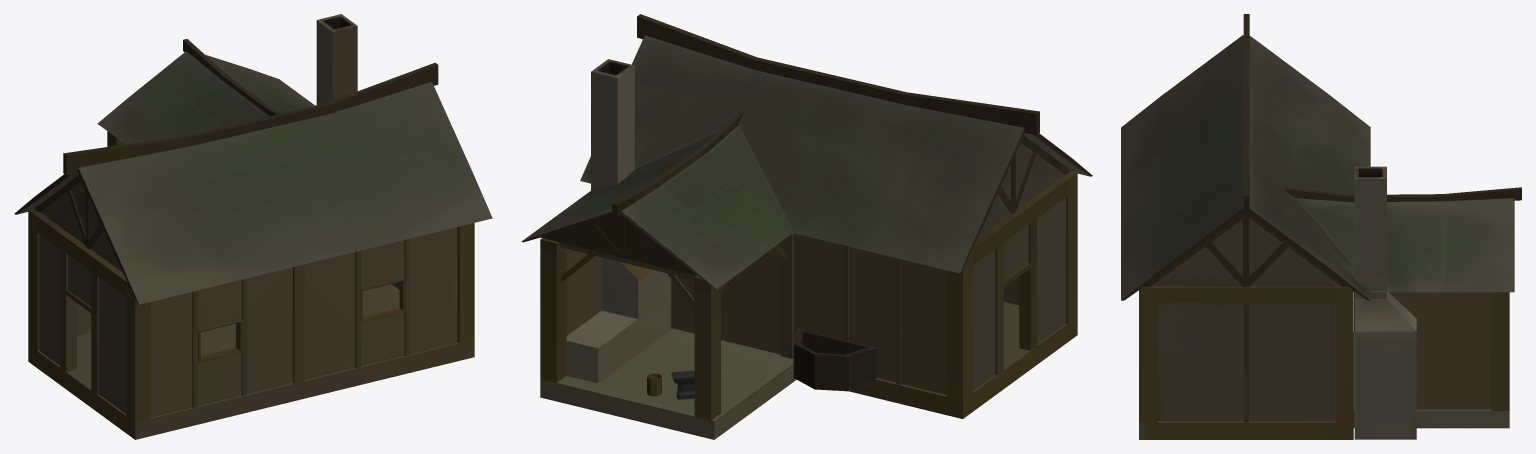
File: smithyhouse.fbx
3 renders of one model, left to right at view 1: azimuth 30°, elevation 25°; view 2: azimuth 150°, elevation 25°; view 3: azimuth 270°, elevation 25°, orthographic. The views are drawn at different scales.
Parts seen in each view (by area): view 1: SmithyRoof, SmithyHouse; view 2: SmithyHouse, SmithyRoof; view 3: SmithyRoof, SmithyHouse.
Part boxes in pixels (<box>): SmithyRoof: <box>14,39,492,304</box>; SmithyHouse: <box>28,14,474,439</box>; SmithyHouse: <box>540,59,1077,439</box>; SmithyRoof: <box>521,14,1092,289</box>; SmithyRoof: <box>1121,14,1521,300</box>; SmithyHouse: <box>1139,166,1509,439</box>.
Size of the model in its own units: 540 by 354 by 502.
